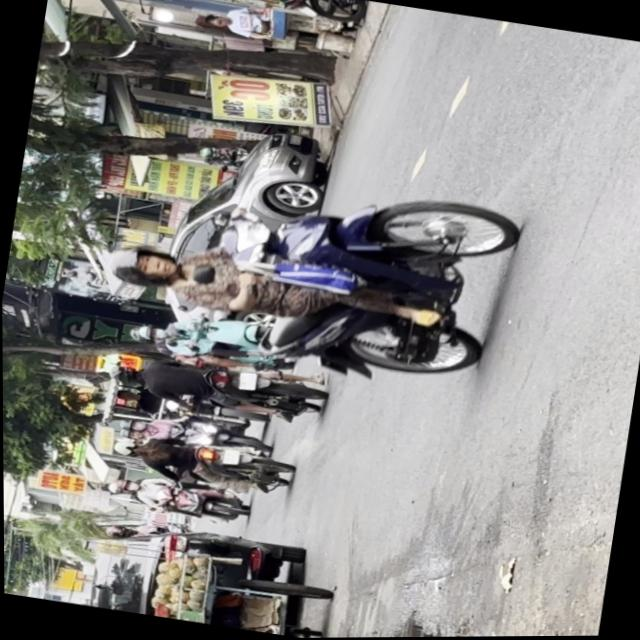helmet: (98, 240, 183, 293)
licenseplate: (83, 144, 531, 407)
